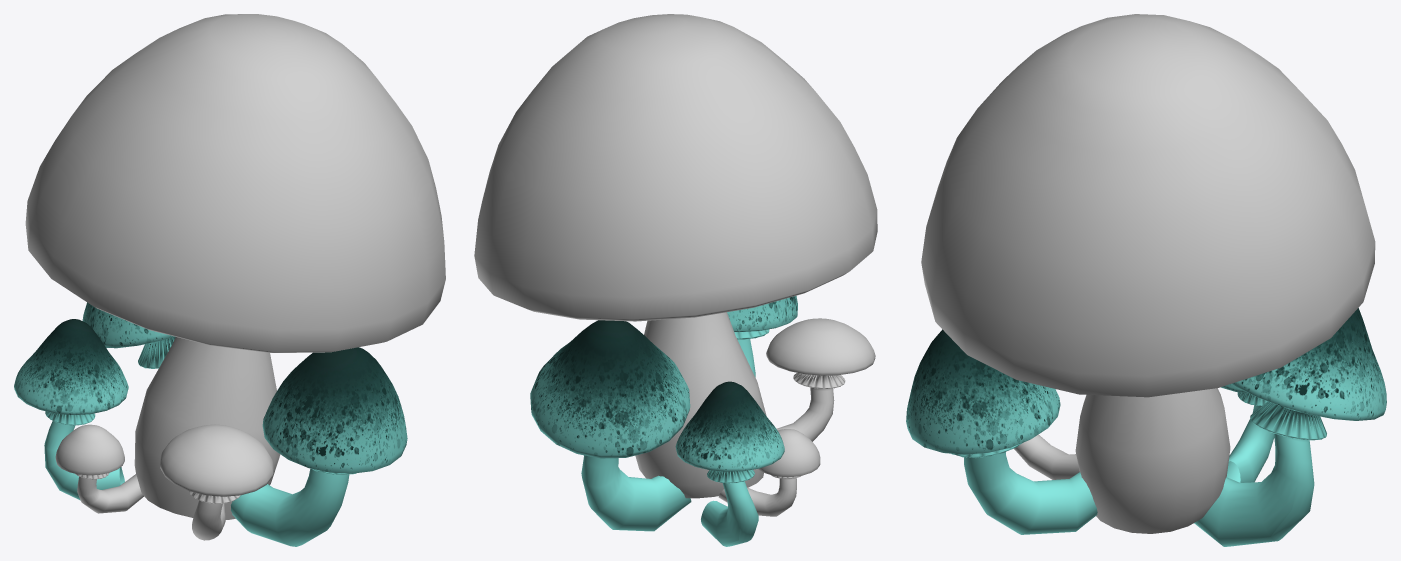
The model's file is GlowMushBIGCloude.fbx.
The picture shows the model from 3 angles, left to right: view 1: azimuth 30°, elevation 25°; view 2: azimuth 150°, elevation 25°; view 3: azimuth 270°, elevation 25°; orthographic projection. The views are drawn at different scales.
Parts seen in each view (by area): view 1: muschroom4st, muschroom0, mushroom1, mushroom3, muschroom4:pSphere2, mushroom4; view 2: muschroom4st, mushroom4, mushroom1, mushroom3, muschroom4:pSphere2, muschroom0; view 3: muschroom4st, muschroom0, mushroom4, mushroom1, mushroom3.
Part boxes in pixels (x1=…): muschroom4st: x1=25, y1=14, x2=445, y2=519; muschroom0: x1=231, y1=347, x2=407, y2=546; mushroom1: x1=14, y1=319, x2=128, y2=500; mushroom3: x1=160, y1=424, x2=273, y2=540; muschroom4:pSphere2: x1=55, y1=424, x2=144, y2=513; mushroom4: x1=82, y1=302, x2=175, y2=368; muschroom4st: x1=474, y1=14, x2=877, y2=498; mushroom4: x1=530, y1=320, x2=691, y2=531; mushroom1: x1=675, y1=381, x2=784, y2=546; mushroom3: x1=766, y1=318, x2=875, y2=441; muschroom4:pSphere2: x1=718, y1=429, x2=820, y2=516; muschroom0: x1=727, y1=296, x2=797, y2=377; muschroom4st: x1=921, y1=14, x2=1375, y2=533; muschroom0: x1=906, y1=329, x2=1097, y2=534; mushroom4: x1=1194, y1=308, x2=1386, y2=546; mushroom1: x1=1221, y1=383, x2=1274, y2=482; mushroom3: x1=1014, y1=434, x2=1079, y2=479.
Size of the model in its own units: 20.07 by 25.65 by 21.35.
